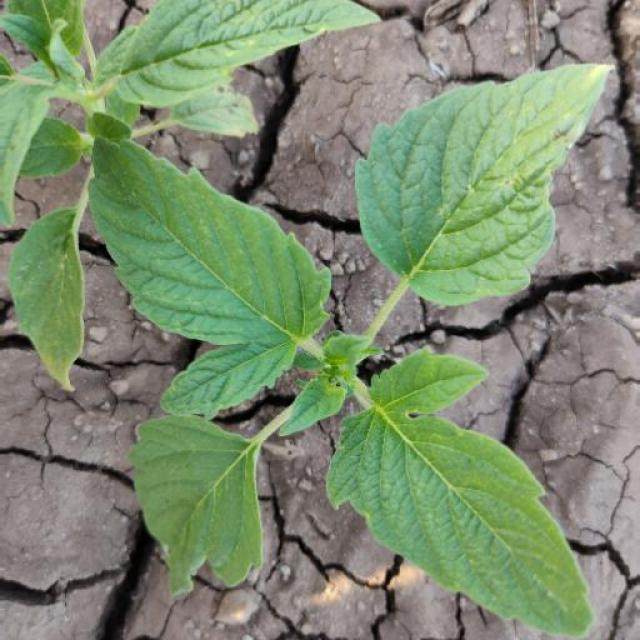crop: (67, 55, 614, 633)
